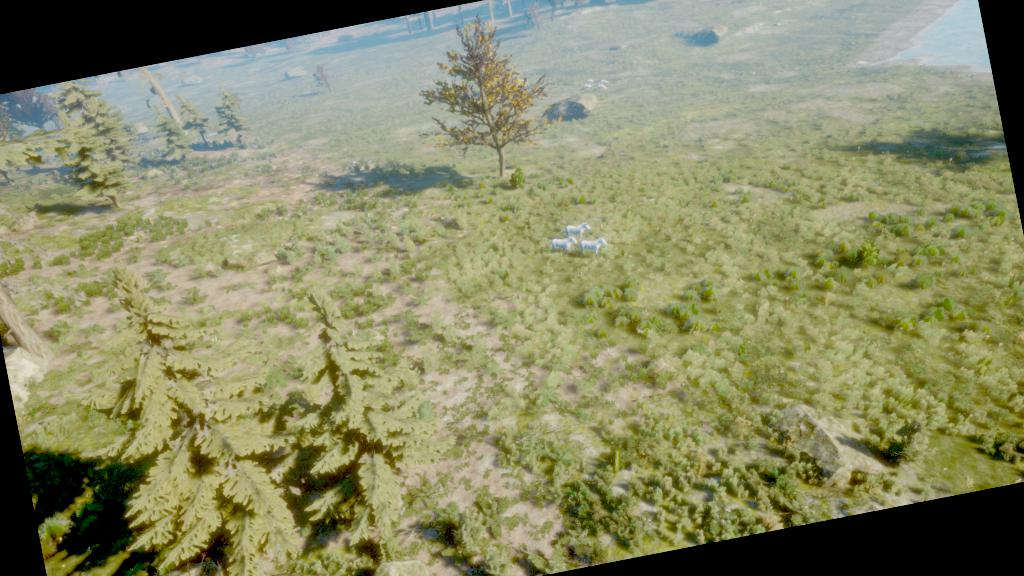pig: (596, 82, 606, 91), (600, 78, 610, 86), (582, 83, 592, 90), (586, 78, 594, 85)
zebra: (547, 233, 579, 256), (576, 236, 608, 258), (562, 220, 592, 240)
